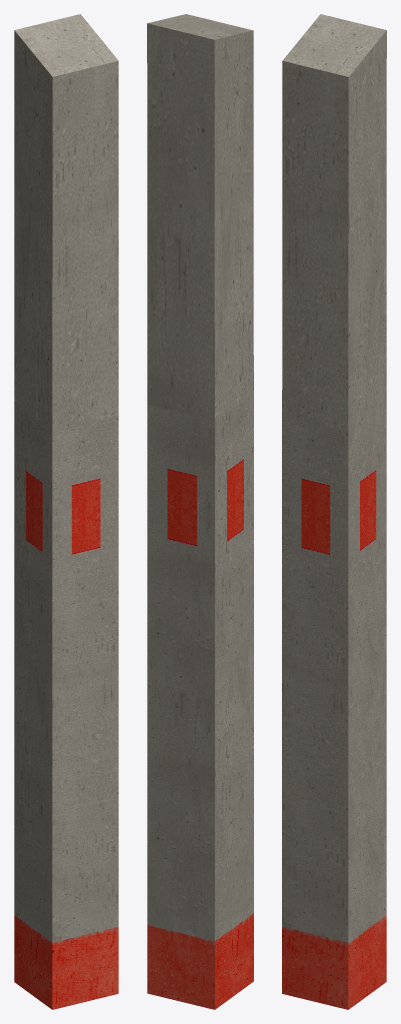
The model's file is upright.dae.
3 renders of one model, left to right at view 1: azimuth 30°, elevation 25°; view 2: azimuth 150°, elevation 25°; view 3: azimuth 330°, elevation 25°, orthographic.
Parts seen in each view (by area): view 1: Cube.001; view 2: Cube.001; view 3: Cube.001.
Boxes of the visible parts, x1,y1,x2,y2 form: Cube.001: (14,14,118,1009); Cube.001: (147,14,253,1009); Cube.001: (282,14,386,1009).
Bounding box in the file's own units: 0.301 × 0.3005 × 4.12.
Materials: 1 (1 with a texture image).
